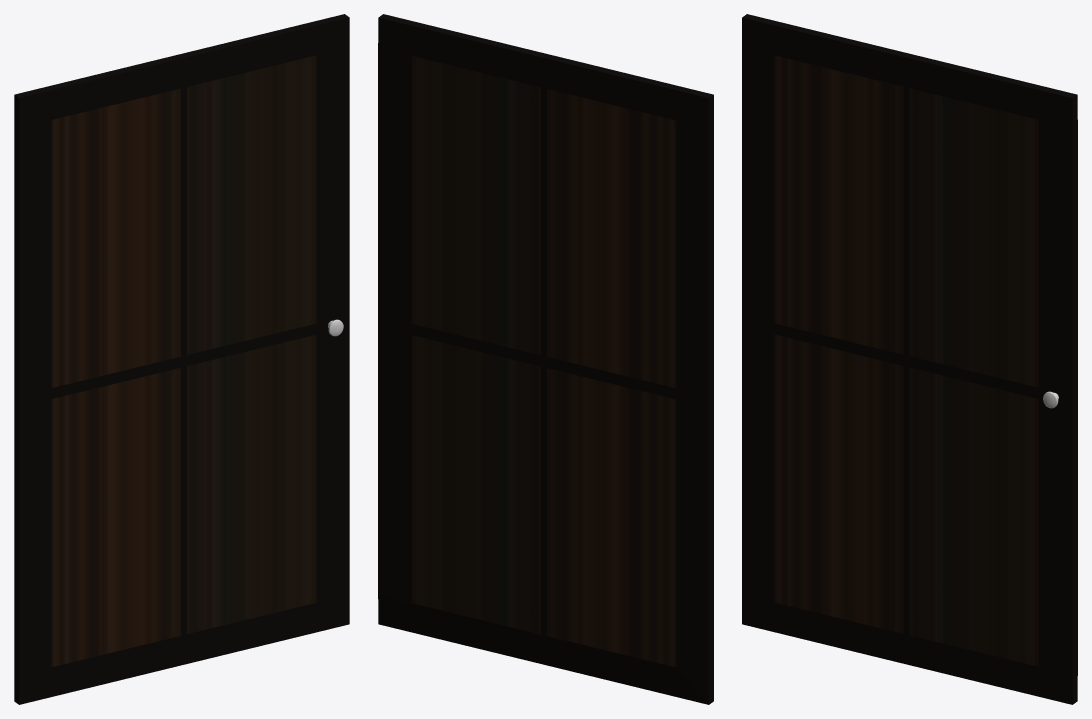
File: шкаф в музыкальной.FBX
3 renders of one model, left to right at view 1: azimuth 30°, elevation 25°; view 2: azimuth 150°, elevation 25°; view 3: azimuth 330°, elevation 25°, orthographic.
Parts seen in each view (by area): view 1: Object126; view 2: Object126; view 3: Object126.
Boxes of the visible parts, box(x1,y1,x2,y2) form: Object126: box(14, 14, 349, 704); Object126: box(378, 14, 713, 704); Object126: box(742, 14, 1077, 704).
Bounding box in the file's own units: 654 × 1147 × 36.79.
